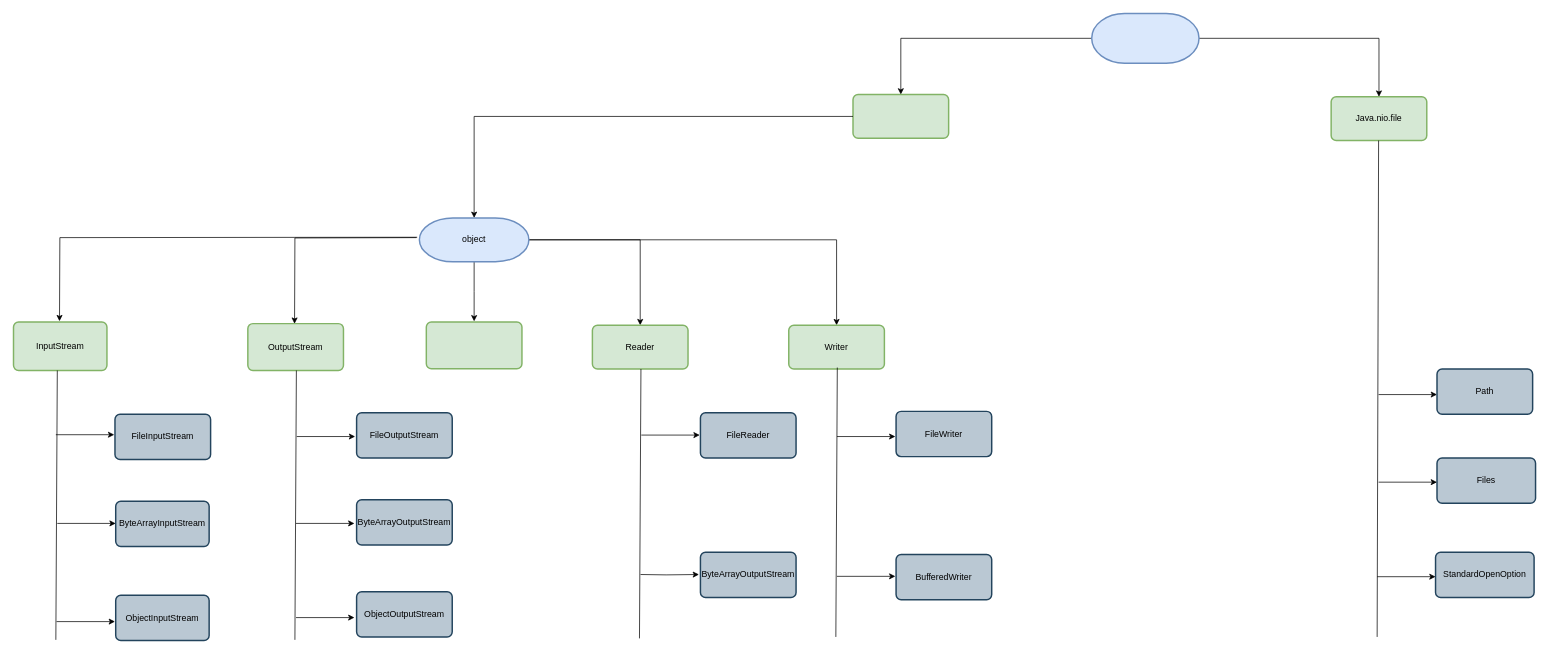
Some shapes in this 1548 by 653 pixel diagram are drawn without their labels. Here are the shapes that lost their labels. From the top down, the centre of each, then its label:
the point at 1145,38: Start
the point at 900,116: Java.io
the point at 473,345: File
